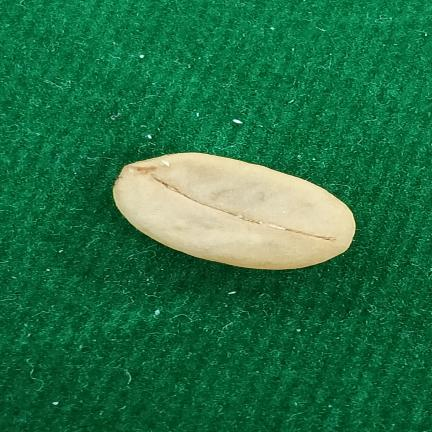parchment: (113, 153, 355, 269)
